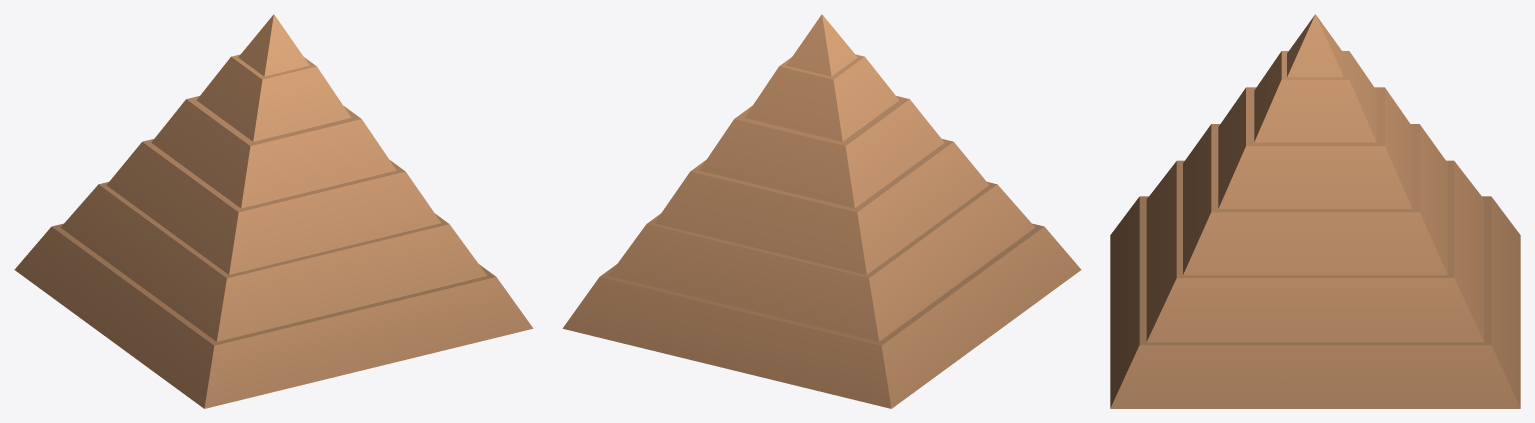
3 renders of one model, left to right at view 1: azimuth 30°, elevation 25°; view 2: azimuth 150°, elevation 25°; view 3: azimuth 270°, elevation 25°, orthographic. The views are drawn at different scales.
Parts seen in each view (by area): view 1: pyramid; view 2: pyramid; view 3: pyramid.
Part boxes in pixels (x1,y1,x2,y2): pyramid: (14, 14, 533, 408); pyramid: (562, 14, 1081, 408); pyramid: (1110, 14, 1520, 408).
Bounding box in the file's own units: 1257 × 1041 × 1257.
